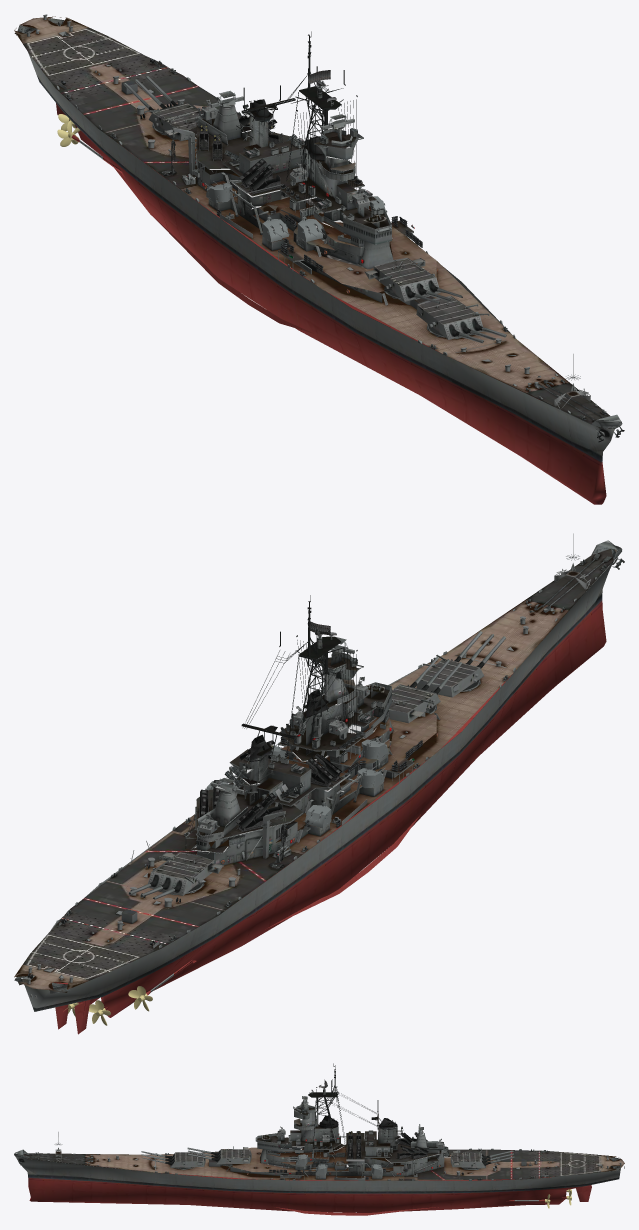
3 views of the same model, one above another, from view 1: azimuth 30°, elevation 25°; view 2: azimuth 150°, elevation 25°; view 3: azimuth 270°, elevation 25° (orthographic). The views are drawn at different scales.
Parts seen in each view (by area): view 1: Object_15, Object_16, Object_13, Object_12, Object_3, Object_14, Object_10, Object_17; view 2: Object_15, Object_16, Object_13, Object_12, Object_3, Object_14, Object_17, Object_10, Object_7; view 3: Object_15, Object_16, Object_13, Object_12, Object_14, Object_3, Object_9.
Boxes of the visible parts, box(x1,y1,x2,y2) form: Object_15: box(16, 14, 622, 504); Object_16: box(14, 16, 611, 428); Object_13: box(56, 21, 624, 442); Object_12: box(144, 102, 489, 339); Object_3: box(199, 115, 305, 194); Object_14: box(56, 76, 506, 343); Object_10: box(262, 216, 324, 241); Object_17: box(199, 99, 369, 208); Object_15: box(14, 533, 622, 1017); Object_16: box(14, 547, 620, 992); Object_13: box(27, 553, 624, 978); Object_12: box(148, 654, 484, 895); Object_3: box(199, 740, 341, 832); Object_14: box(55, 631, 505, 1034); Object_17: box(199, 676, 369, 833); Object_10: box(357, 736, 389, 787); Object_7: box(65, 986, 152, 1025); Object_15: box(14, 1063, 624, 1215); Object_16: box(23, 1092, 624, 1180); Object_13: box(18, 1088, 613, 1180); Object_12: box(170, 1146, 485, 1169); Object_14: box(141, 1147, 591, 1201); Object_3: box(348, 1131, 428, 1159); Object_9: box(289, 1154, 327, 1175).
Bounding box in the file's own units: 22.12 × 44.85 × 181.
Materials: 10 (8 with a texture image).
